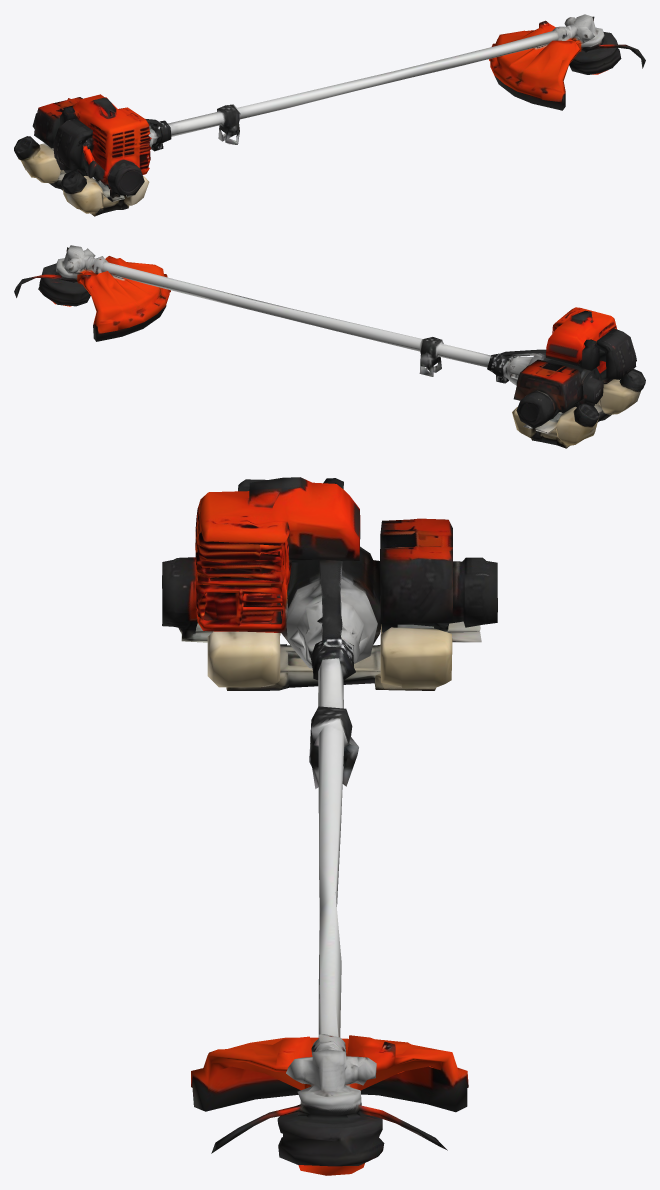
File: tirpan_govde.glb
The picture shows the model from 3 angles, top to bottom: view 1: azimuth 30°, elevation 25°; view 2: azimuth 150°, elevation 25°; view 3: azimuth 270°, elevation 25°; orthographic projection. The views are drawn at different scales.
Visible parts, largest first — view 1: tripo_node_5ec37809-a437-41fc-8ef6-4a4713528f0b; view 2: tripo_node_5ec37809-a437-41fc-8ef6-4a4713528f0b; view 3: tripo_node_5ec37809-a437-41fc-8ef6-4a4713528f0b.
Boxes of the visible parts, x1,y1,x2,y2 form: tripo_node_5ec37809-a437-41fc-8ef6-4a4713528f0b: [14, 14, 645, 216]; tripo_node_5ec37809-a437-41fc-8ef6-4a4713528f0b: [14, 245, 645, 448]; tripo_node_5ec37809-a437-41fc-8ef6-4a4713528f0b: [162, 477, 497, 1175].
Size of the model in its own units: 0.9808 by 0.1612 by 0.2466.
1 material, 1 textured.
